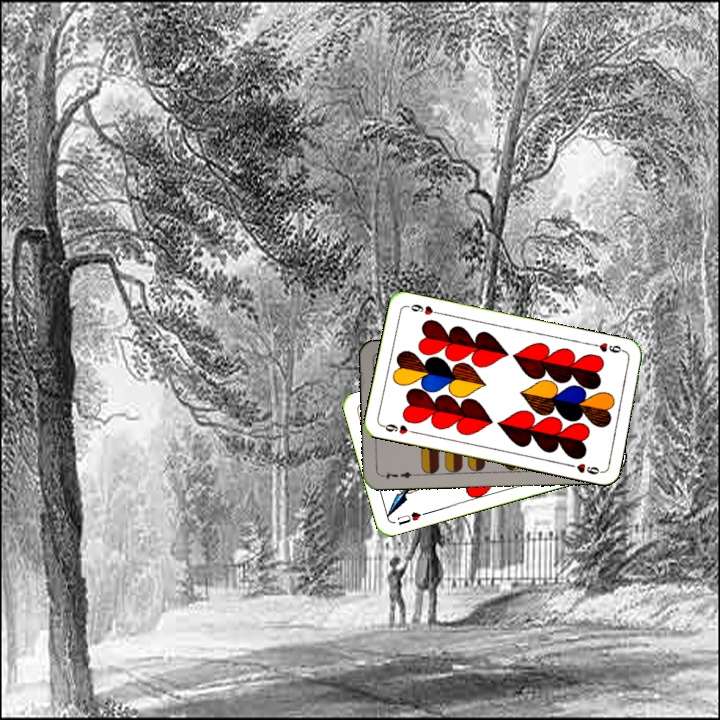E7: (378, 467, 418, 482)
H9: (378, 420, 419, 437), (588, 339, 628, 356)
HU: (393, 508, 430, 528)
